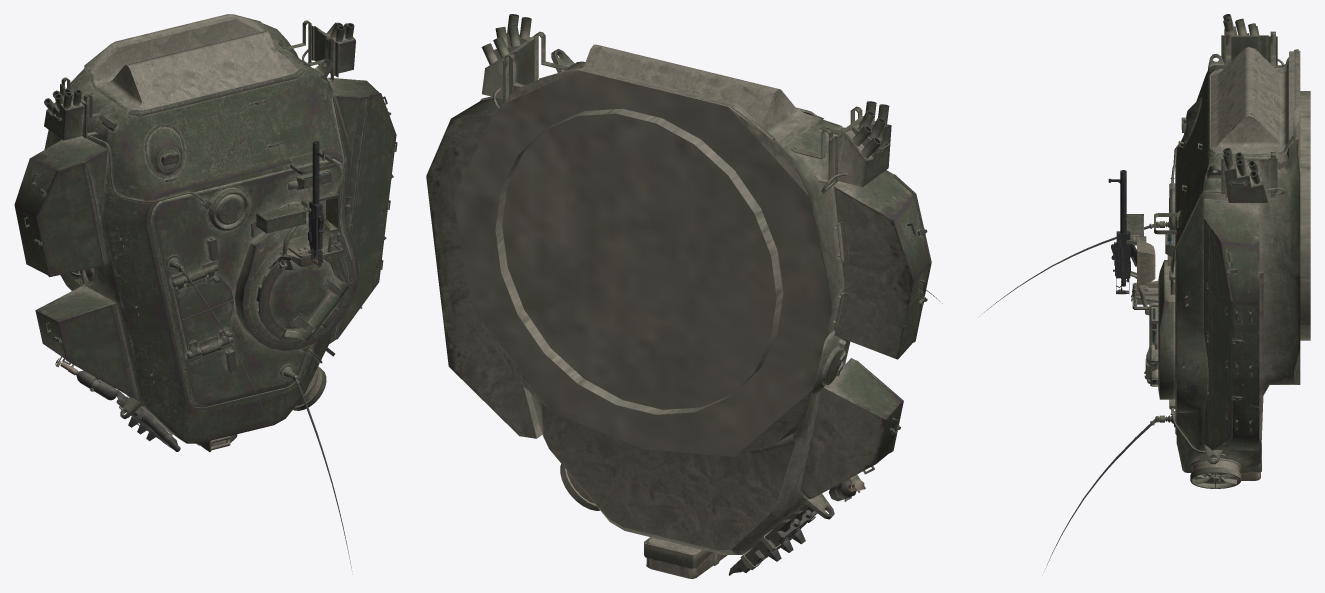
The model's file is Turret_01.glb.
3 renders of one model, left to right at view 1: azimuth 30°, elevation 25°; view 2: azimuth 150°, elevation 25°; view 3: azimuth 270°, elevation 25°, orthographic. The views are drawn at different scales.
Visible parts, largest first — view 1: set_0_group_0; view 2: set_0_group_0; view 3: set_0_group_0.
Boxes of the visible parts, <box> form: set_0_group_0: <box>14,14,397,571</box>; set_0_group_0: <box>426,14,942,578</box>; set_0_group_0: <box>979,14,1310,571</box>.
Size of the model in its own units: 3.33 by 4.01 by 2.58.
1 material, 1 textured.
